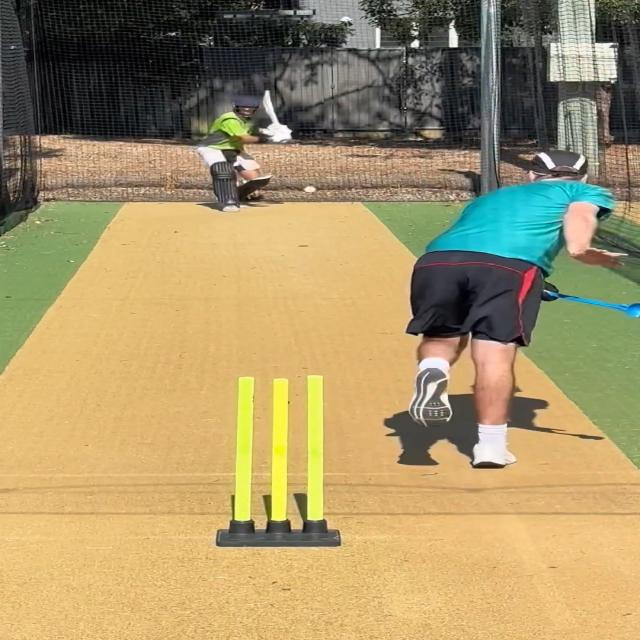ball: (302, 184, 318, 194)
stump: (214, 374, 341, 549)
